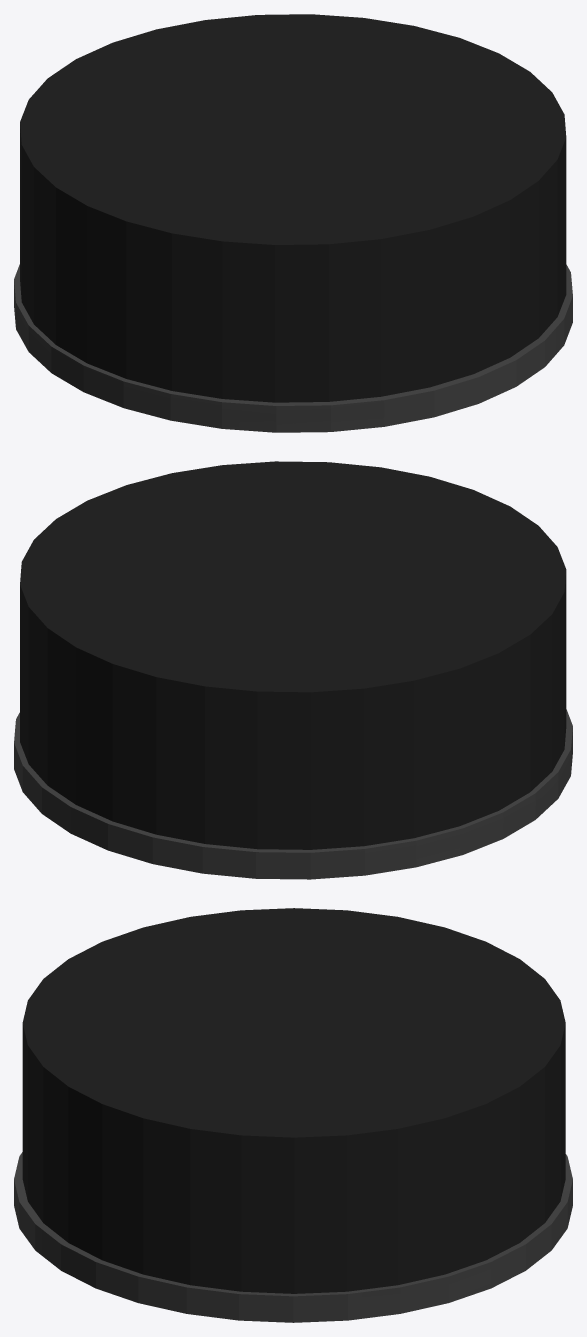
File: AA12MagAttach.fbx
3 renders of one model, top to bottom at view 1: azimuth 30°, elevation 25°; view 2: azimuth 150°, elevation 25°; view 3: azimuth 270°, elevation 25°, orthographic.
Parts seen in each view (by area): view 1: node_eb3a674a_6b93_4f5c_acdd_cc4217393103_mesh0; view 2: node_eb3a674a_6b93_4f5c_acdd_cc4217393103_mesh0; view 3: node_eb3a674a_6b93_4f5c_acdd_cc4217393103_mesh0.
Part boxes in pixels (<box>): node_eb3a674a_6b93_4f5c_acdd_cc4217393103_mesh0: <box>14,14,572,432</box>; node_eb3a674a_6b93_4f5c_acdd_cc4217393103_mesh0: <box>14,461,572,879</box>; node_eb3a674a_6b93_4f5c_acdd_cc4217393103_mesh0: <box>14,908,572,1322</box>.
Bounding box in the file's own units: 0.1064 × 0.0387 × 0.1073.
